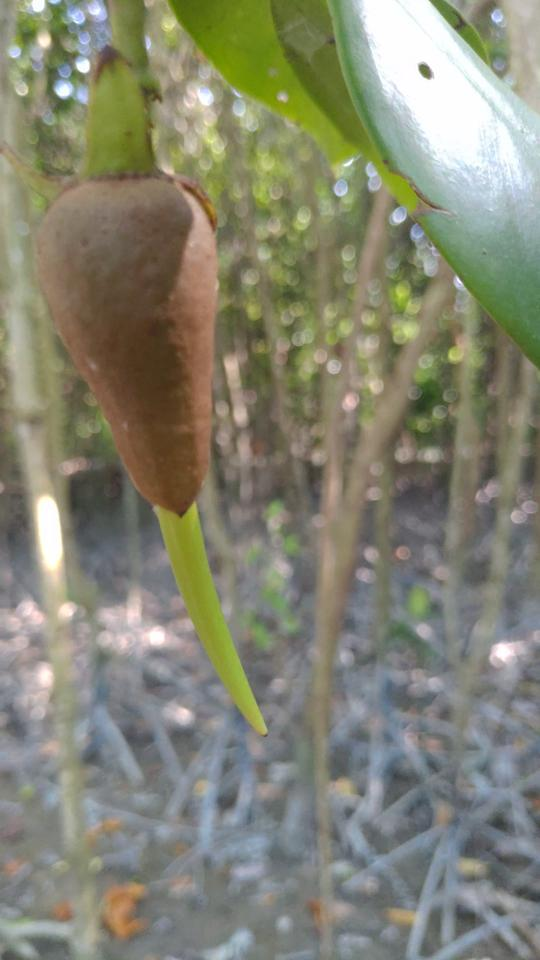mentah: (6, 41, 290, 756)
